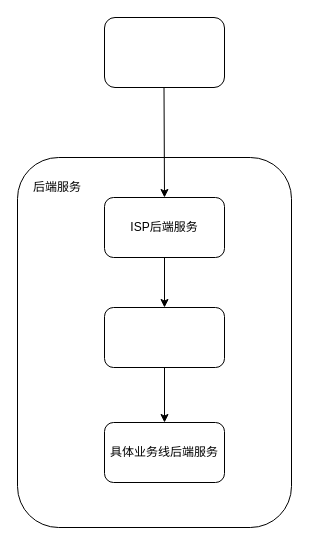
This 309x545 diagram has some shape labels left out. The centre of each missing label's shape, as x and y in pixels:
前端点击触发测试按钮: point (164, 52)
开放平台后端服务: point (164, 337)
